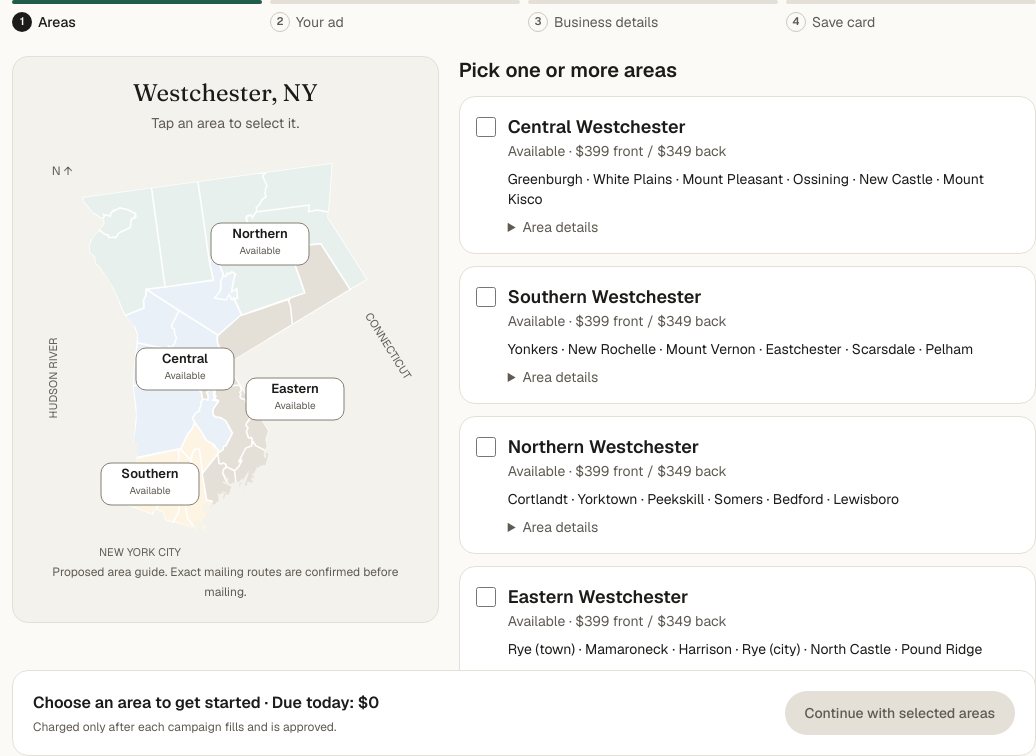
Test case: areas need no category and each selected area needs an explicit square
Later steps or results of the test are not shown.
Click the checkbox labelled "Central" at [486, 127], box [476,117,496,137]
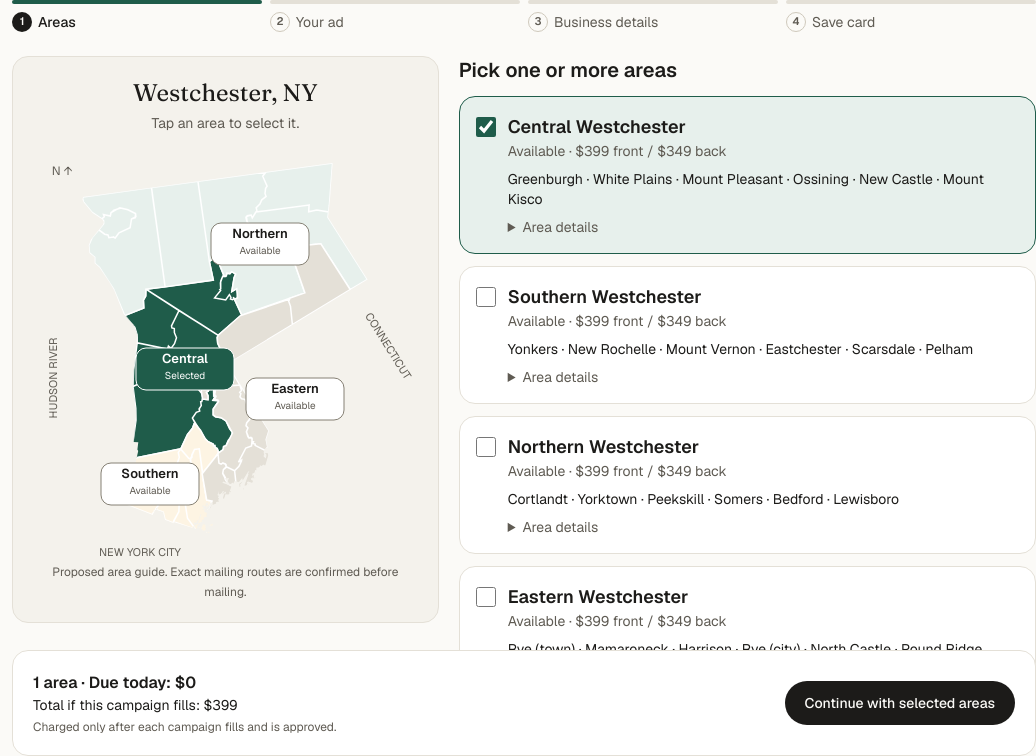
Click the checkbox labelled "Southern" at [486, 297], box [476,287,496,307]
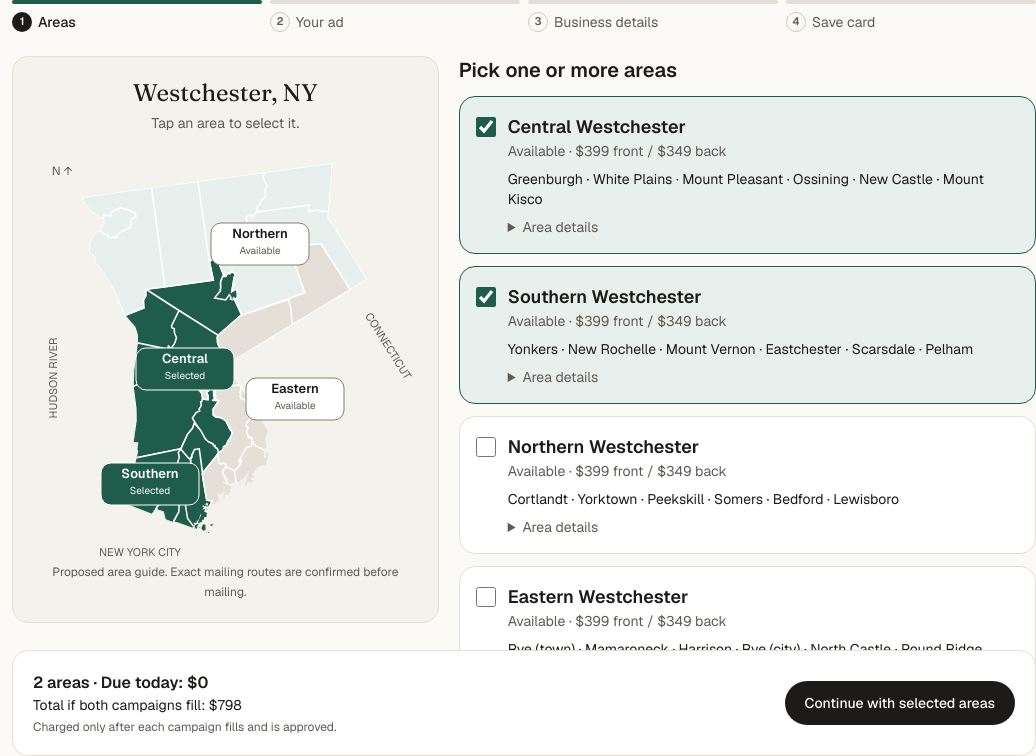
Expected: the text "Due today: $0" is shown, [101,672,208,693]
Result: the text "Total if both campaigns fill: $798" is shown at [33,696,242,714]
Click the button "Continue with selected areas" at [900, 703], box [784,681,1015,725]
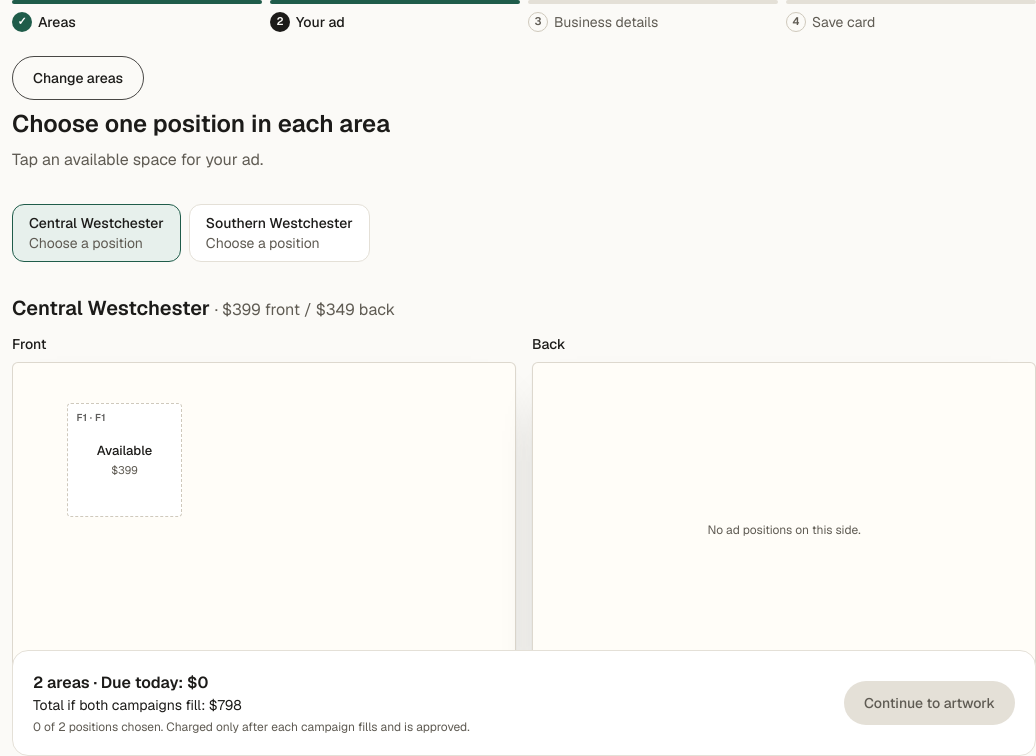
Result: the button "Continue to artwork" is disabled at [844,681,1015,725]
